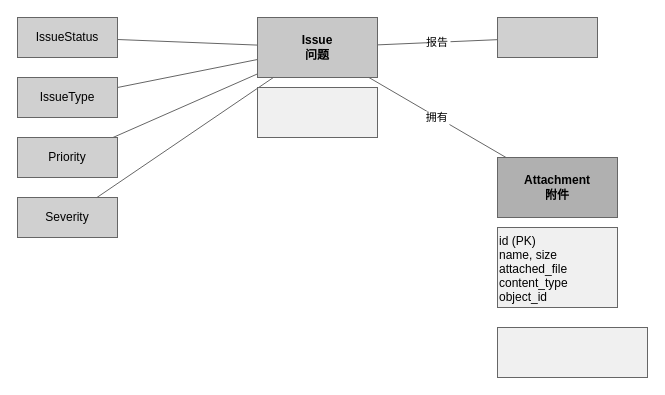
Some shapes in this 665 by 395 pixel diagram are drawn without their labels. Here are the shapes that lost their labels. From the top down, the box of each, then its label:
(496, 16, 598, 58): User
(256, 86, 378, 138): id, ref, subject description is_closed
(496, 326, 648, 378): Attachment 使用 GenericRelation 可关联多种实体
